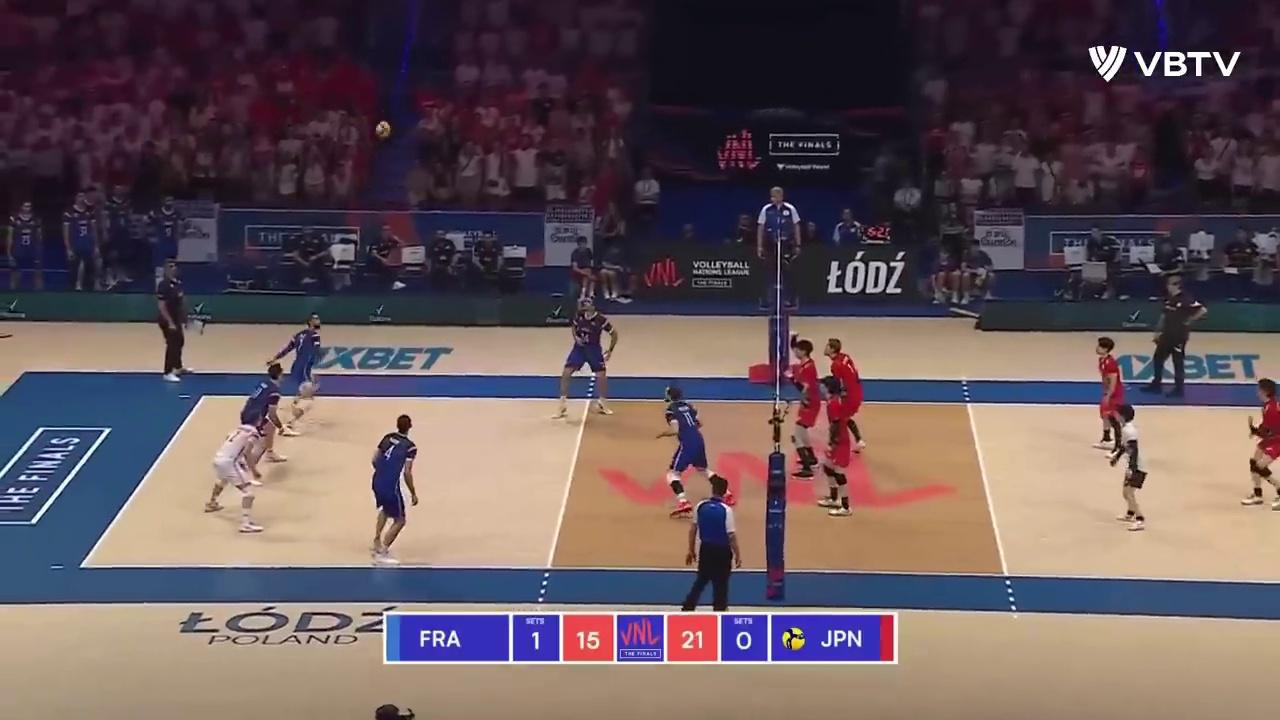ball: (376, 123, 391, 138)
